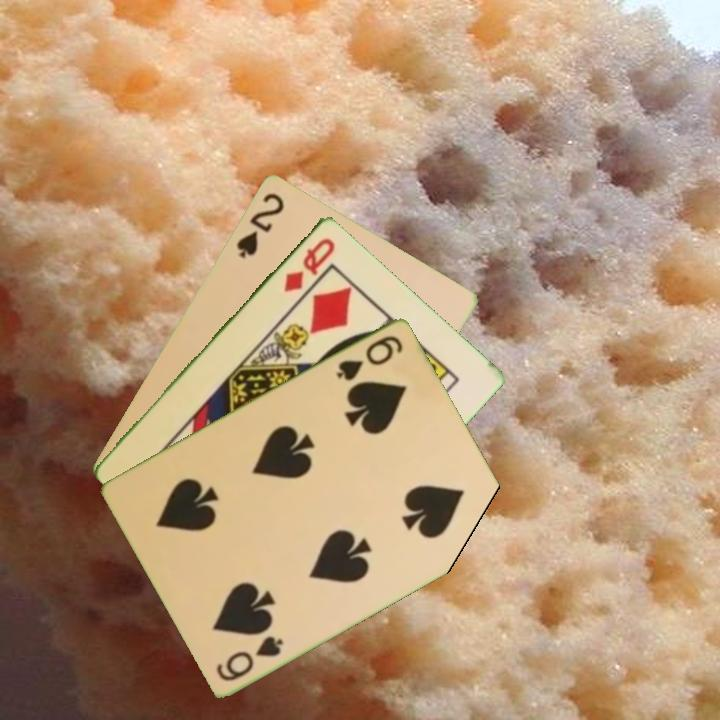2s: (232, 188, 287, 261)
6s: (212, 631, 287, 684), (333, 331, 406, 384)
Qd: (280, 234, 338, 295)
